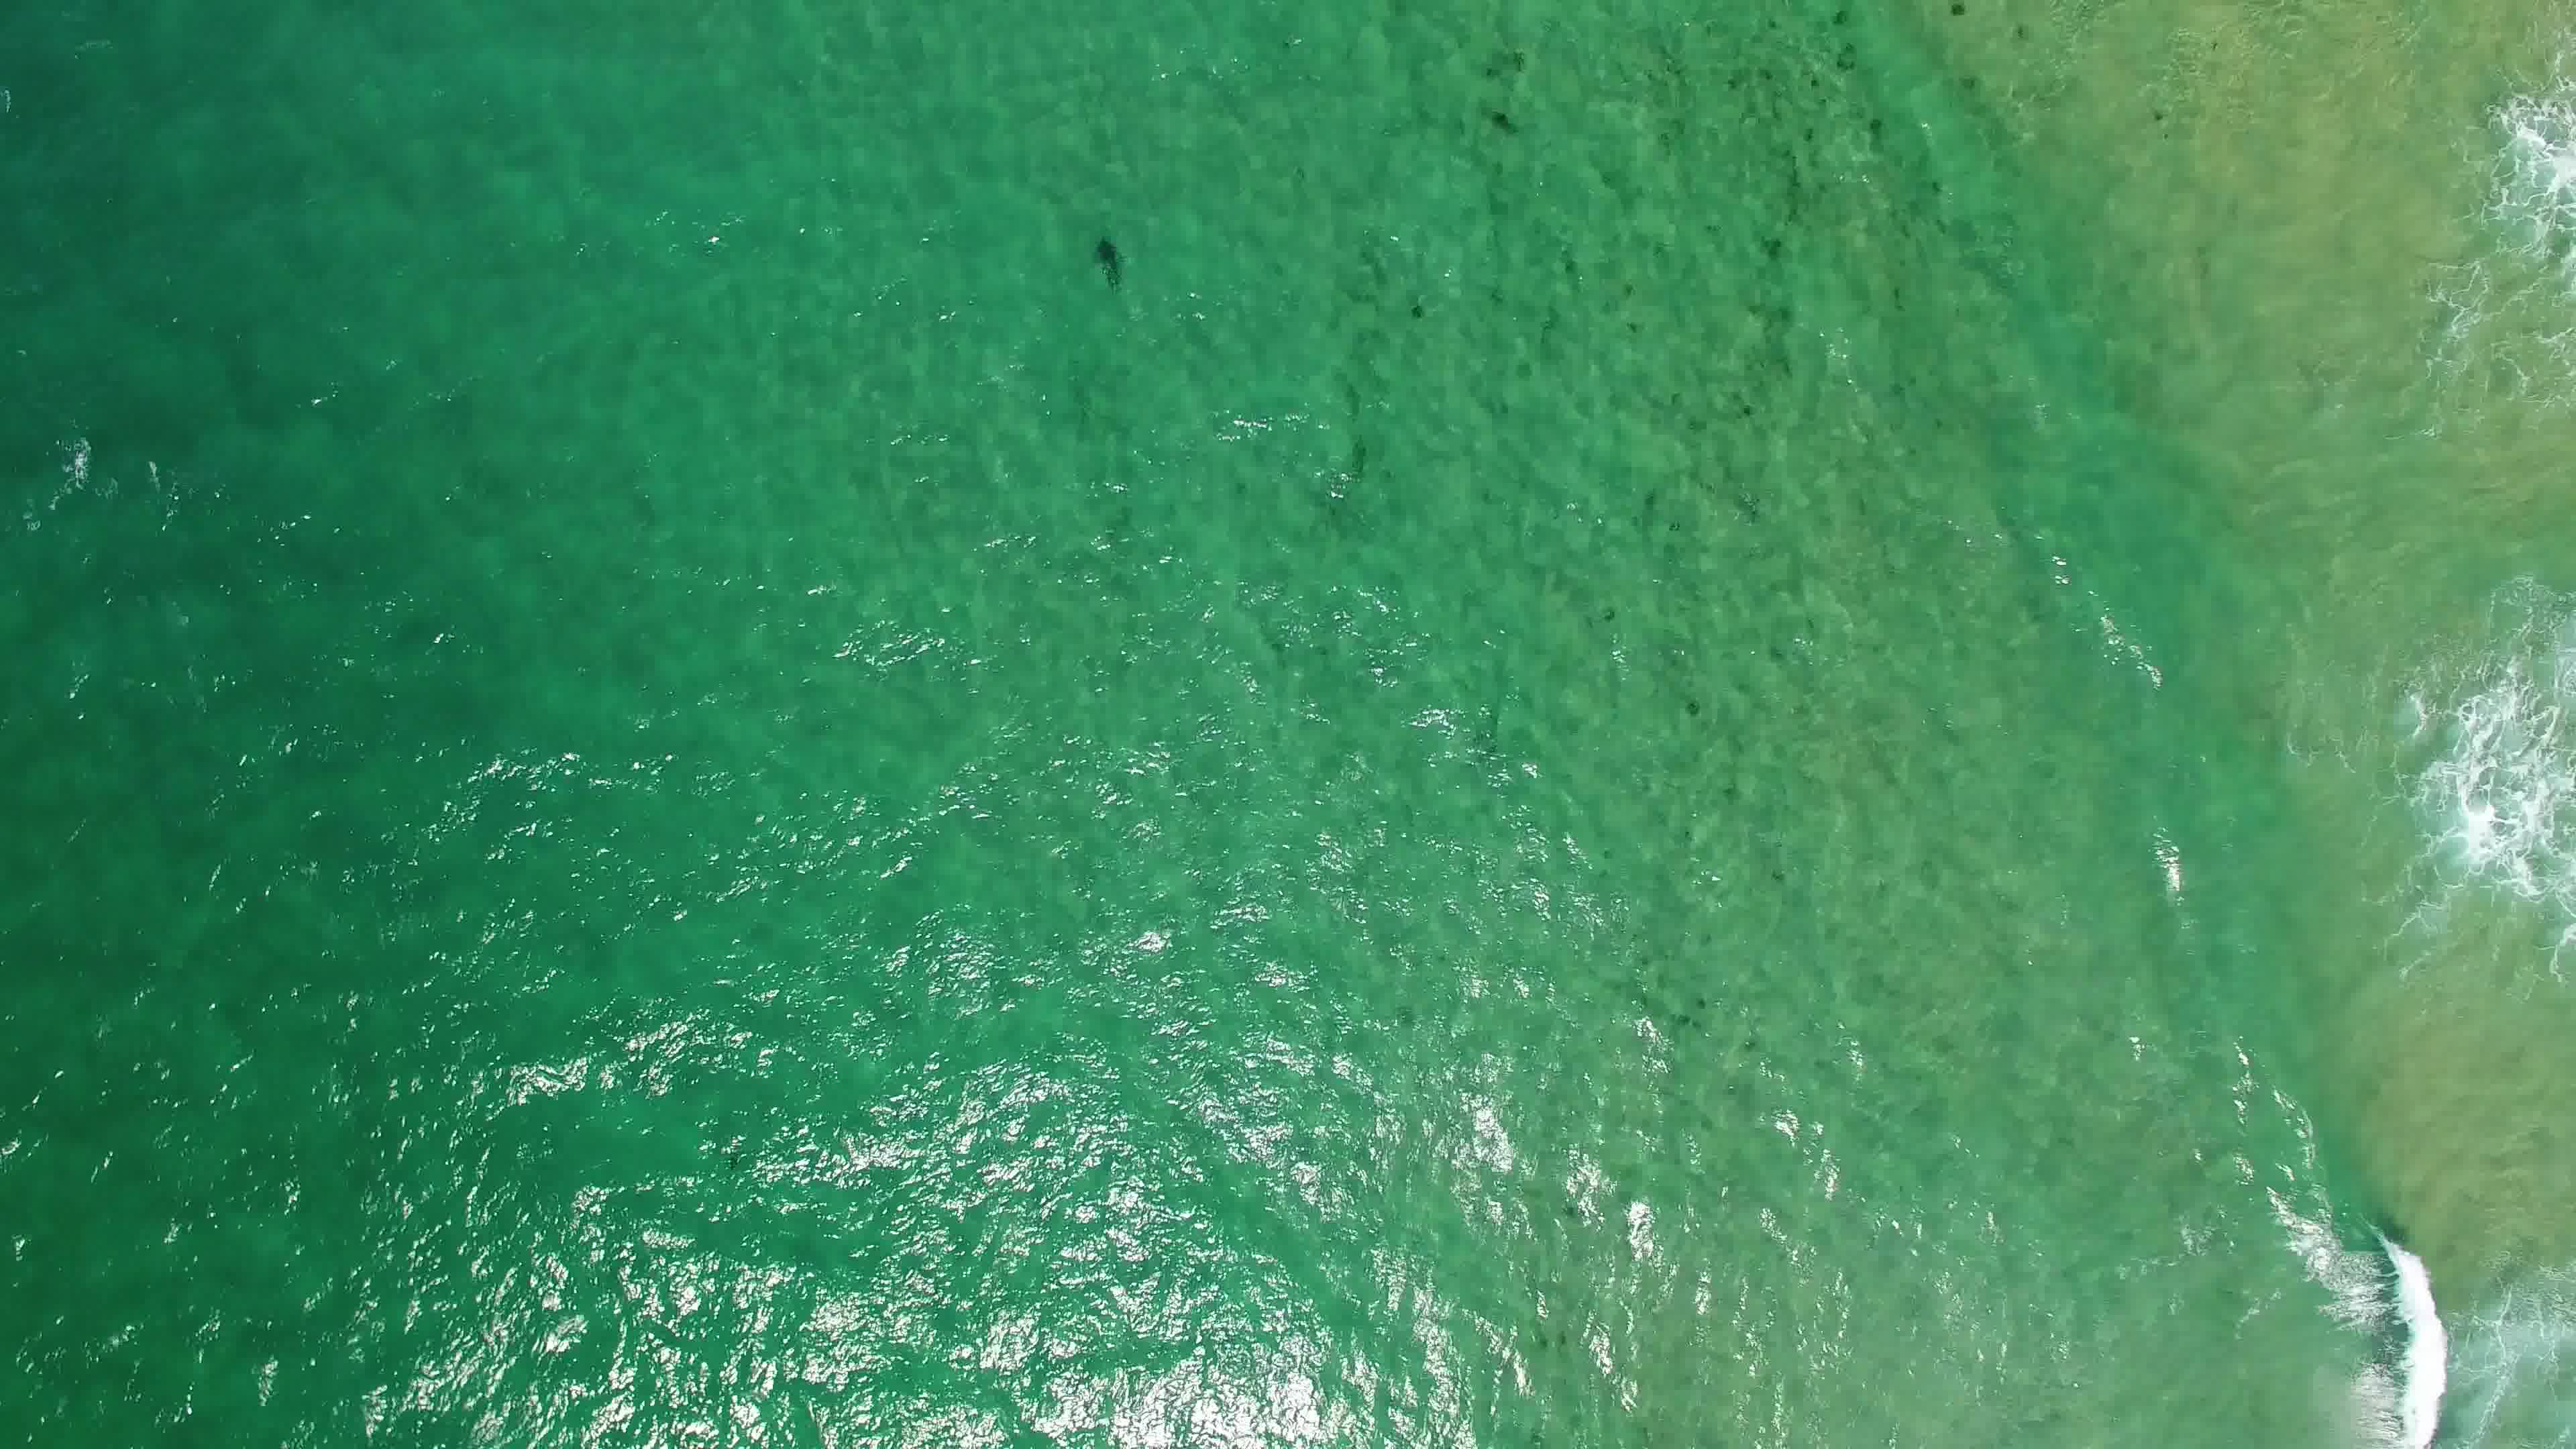shark: (1088, 234, 1132, 297)
